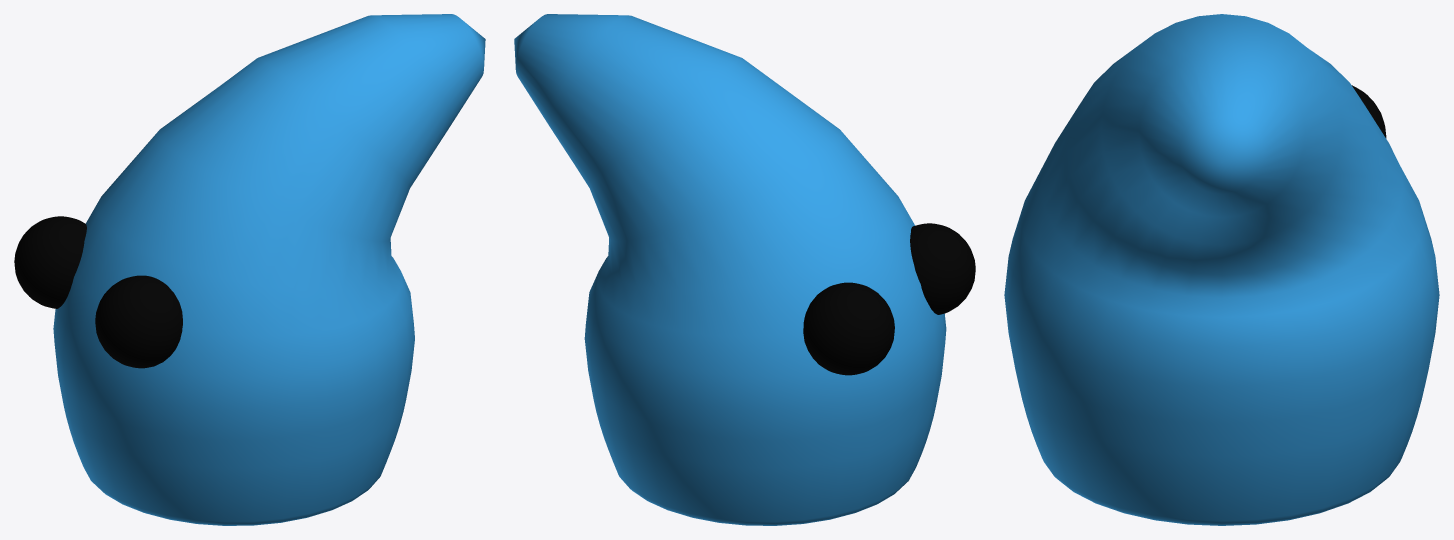
The model's file is slime.fbx.
The picture shows the model from 3 angles, left to right: view 1: azimuth 30°, elevation 25°; view 2: azimuth 150°, elevation 25°; view 3: azimuth 270°, elevation 25°; orthographic projection. The views are drawn at different scales.
Visible parts, largest first — view 1: Sphere; view 2: Sphere; view 3: Sphere.
Part boxes in pixels (x1,y1,x2,y2): Sphere: (14, 14, 485, 525); Sphere: (514, 14, 975, 525); Sphere: (1004, 14, 1439, 525).
Size of the model in its own units: 268 by 248 by 200.
